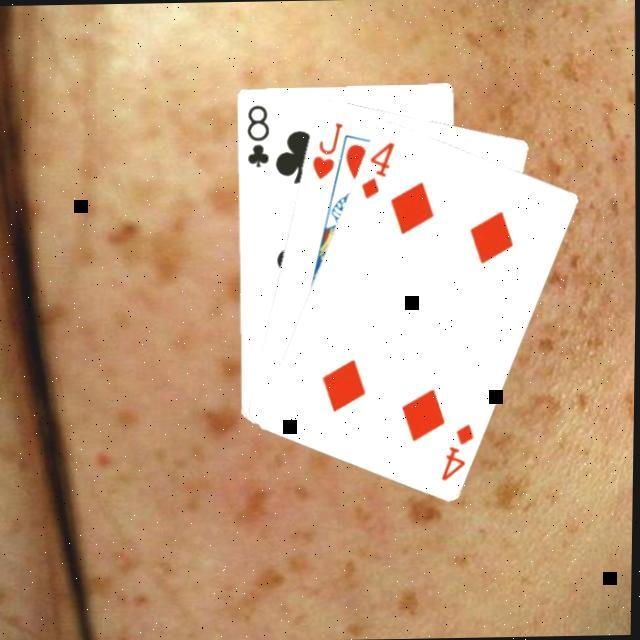4D: (355, 136, 398, 200), (437, 418, 479, 483)
8C: (241, 100, 271, 169)
JH: (306, 117, 346, 181)
